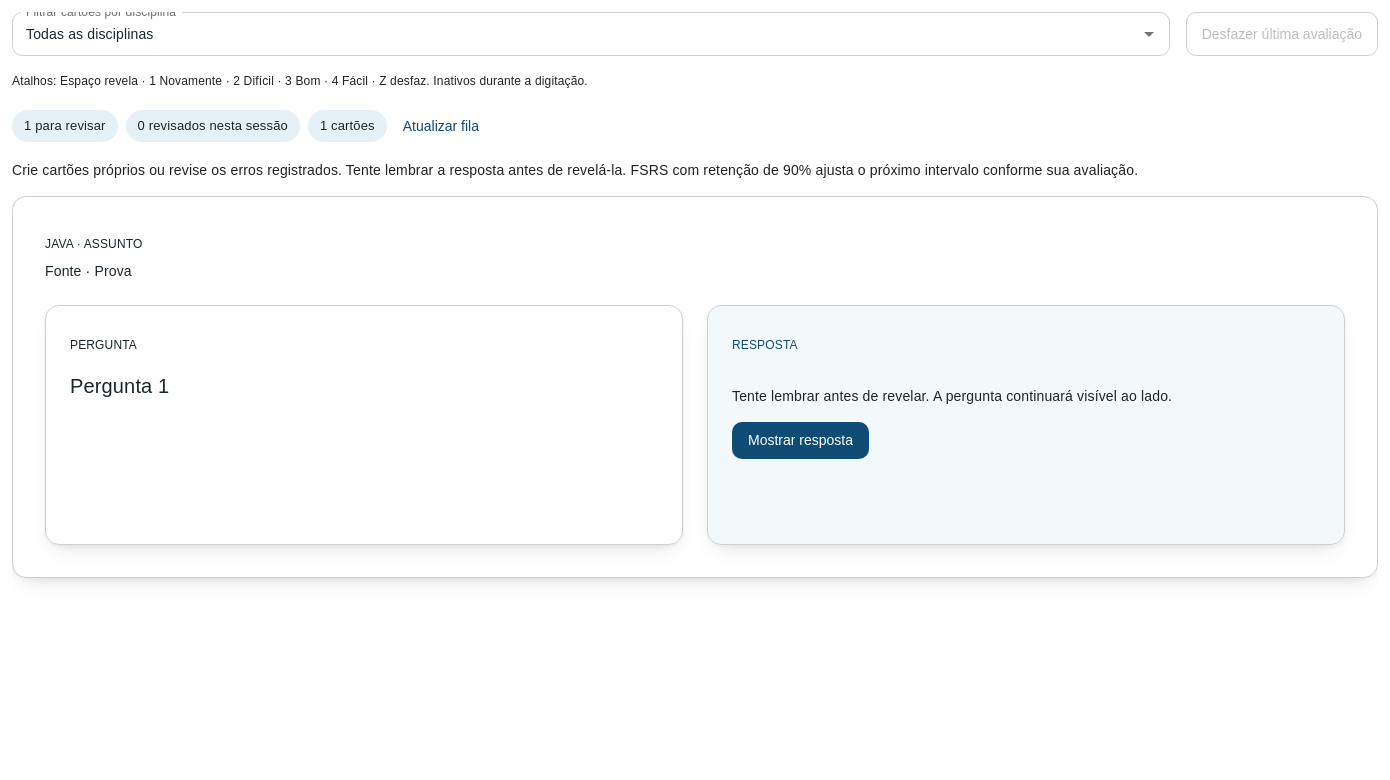
it: Flashcards com atalhos › keeps the queue and displays a failure if undo conflicts with another review
Expected: the heading "Pergunta 1" is shown, top-left (70, 375), bottom-right (169, 397)
Click the button "Mostrar resposta" at (800, 441), box top-left (732, 422), bottom-right (869, 459)
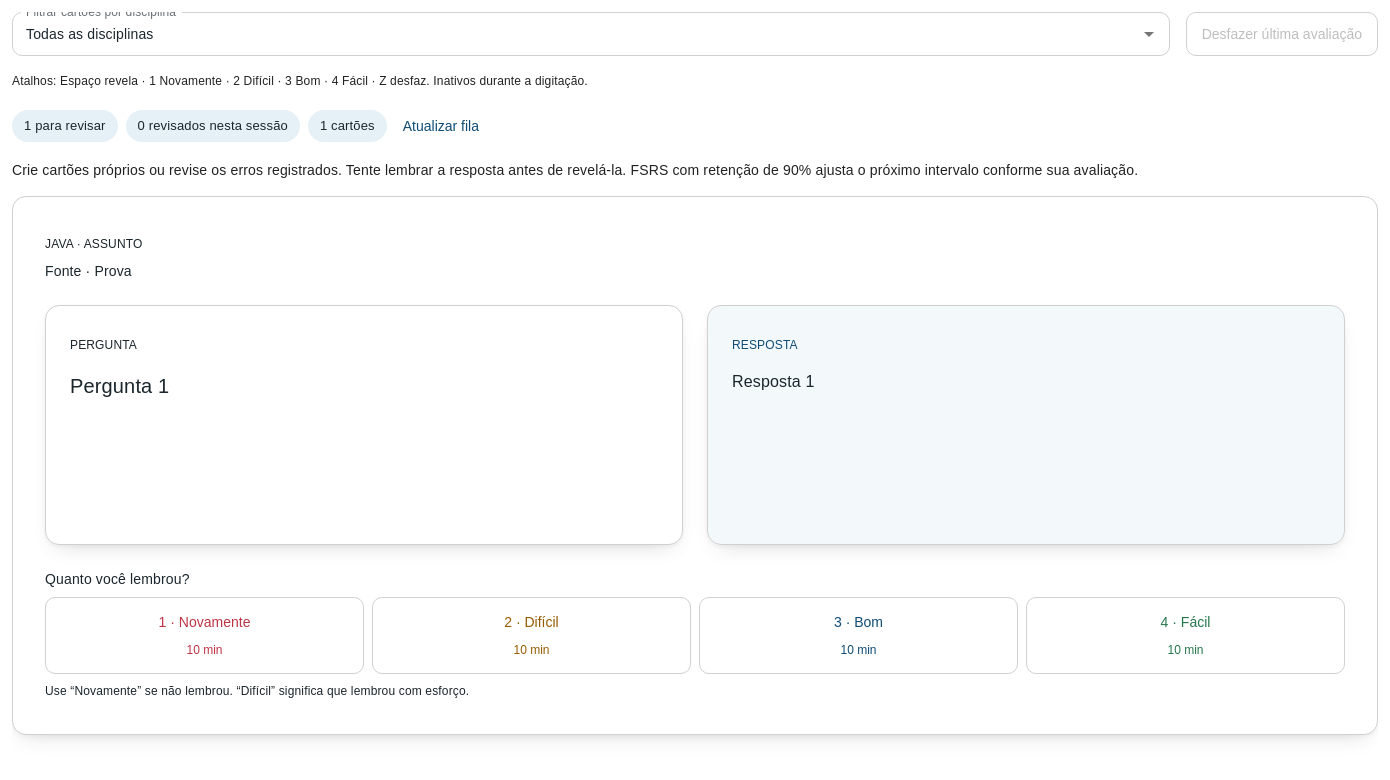
Click the button "3 · Bom 10 min" at (858, 650), box top-left (699, 597), bottom-right (1018, 674)
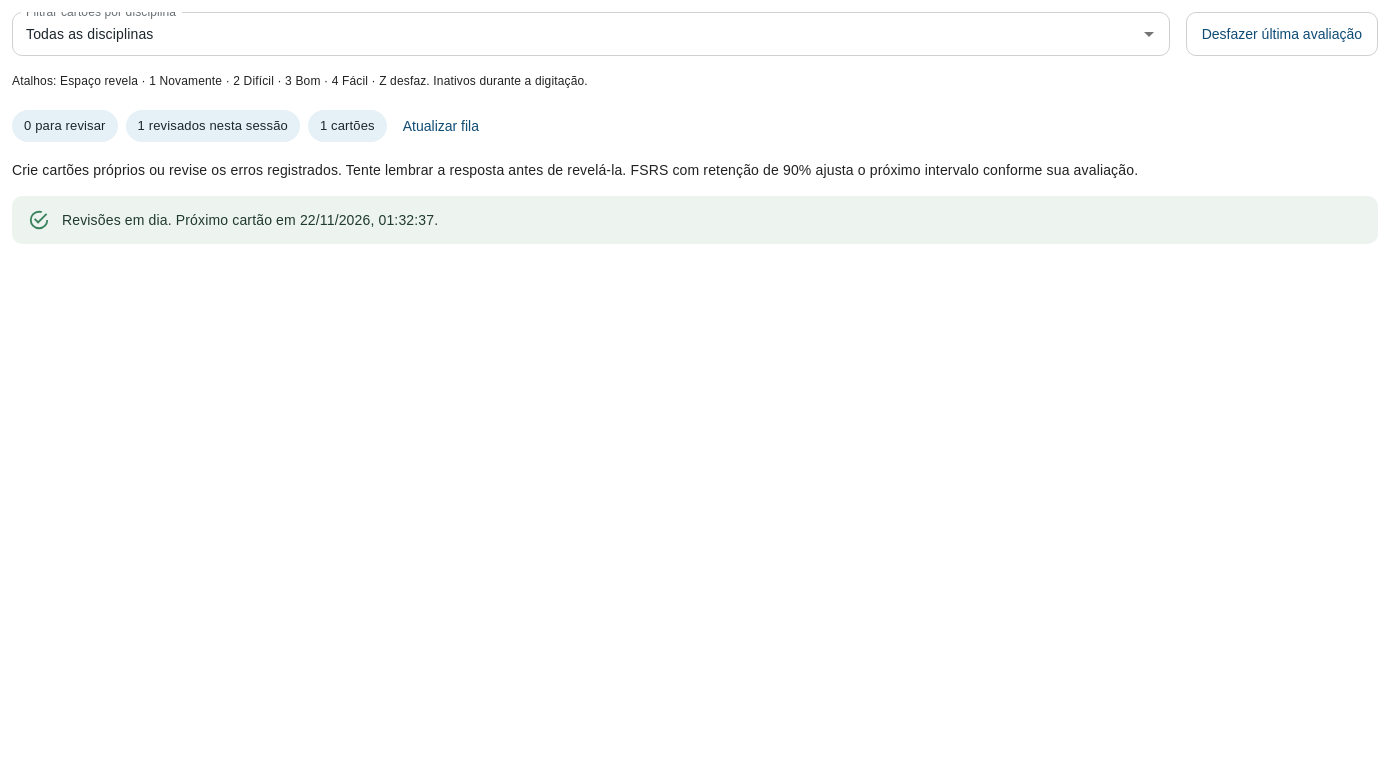
Now the text "Revisões em dia. Próximo cartão em 22/11/2026, 01:32:37." is shown, box top-left (62, 212), bottom-right (438, 228)
Click the button "Desfazer última avaliação" at (1282, 34), box top-left (1186, 12), bottom-right (1378, 56)
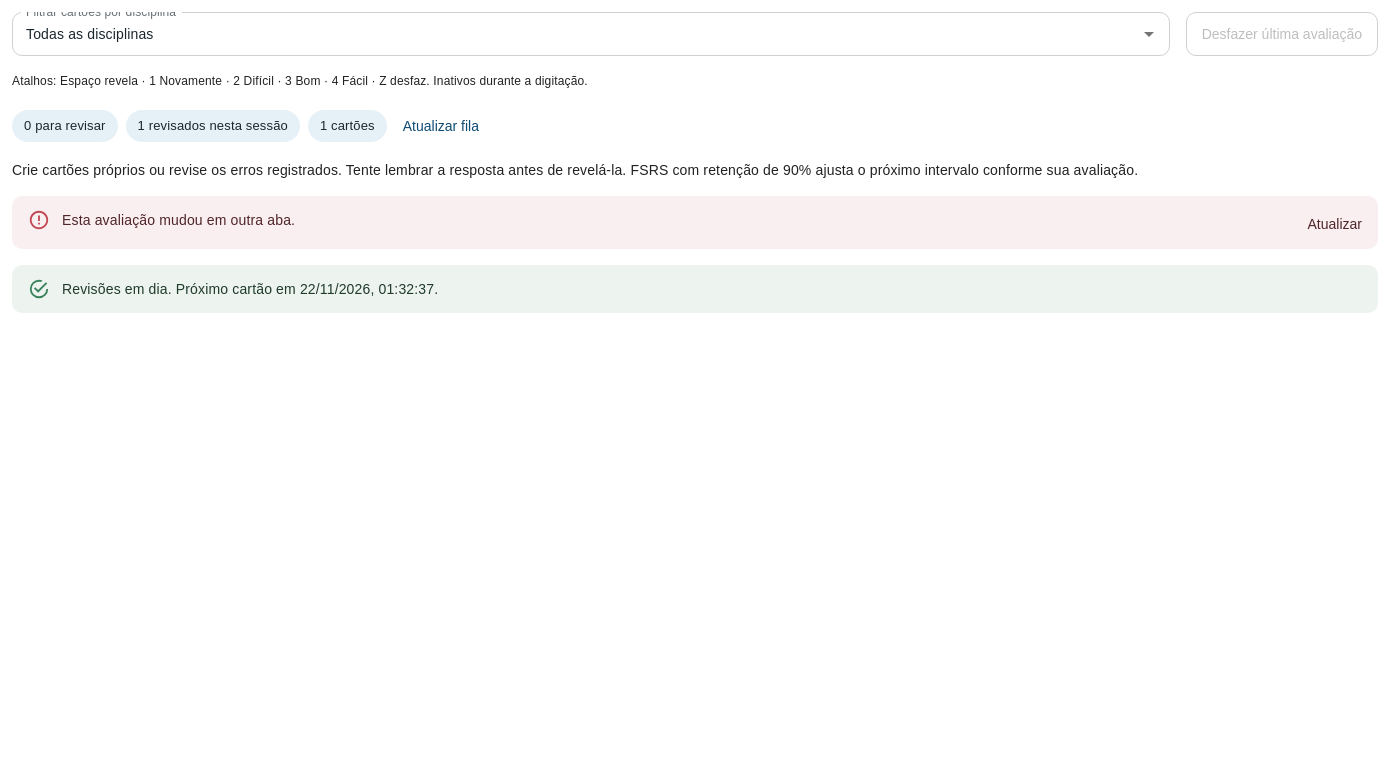
Expected: the heading "Pergunta 1" is not shown
Now the text "1 revisados nesta sessão" is shown, box top-left (126, 116), bottom-right (300, 136)
Now the text "Esta avaliação mudou em outra aba." is shown, box top-left (62, 212), bottom-right (295, 228)
